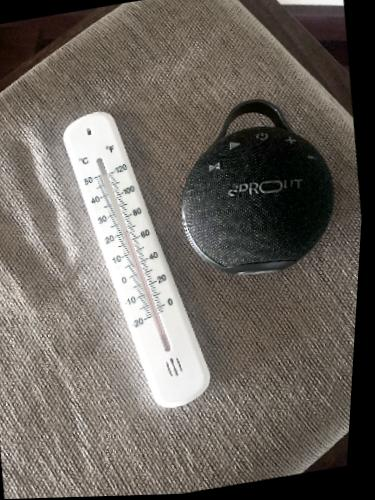thermo: (56, 103, 215, 409)
